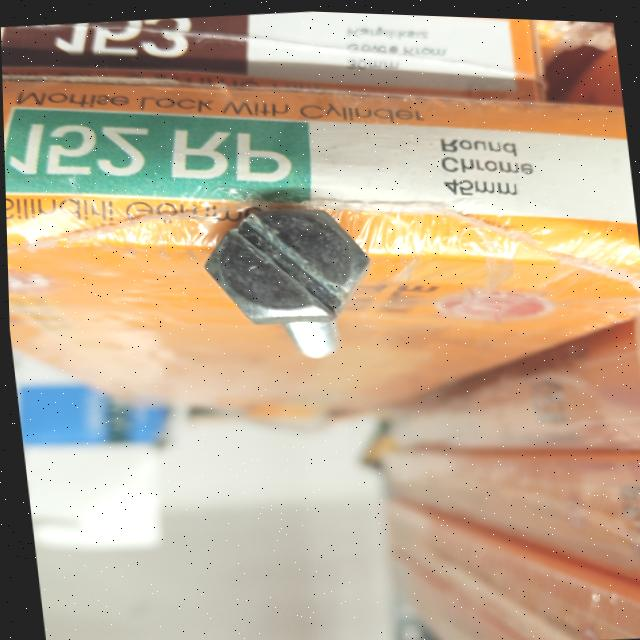Slotted: (184, 188, 395, 342)
